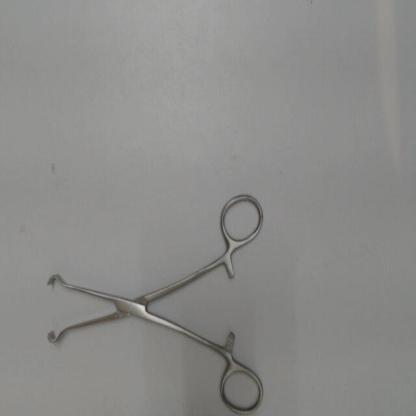Babcock Tissue Forceps: (40, 182, 273, 414)
